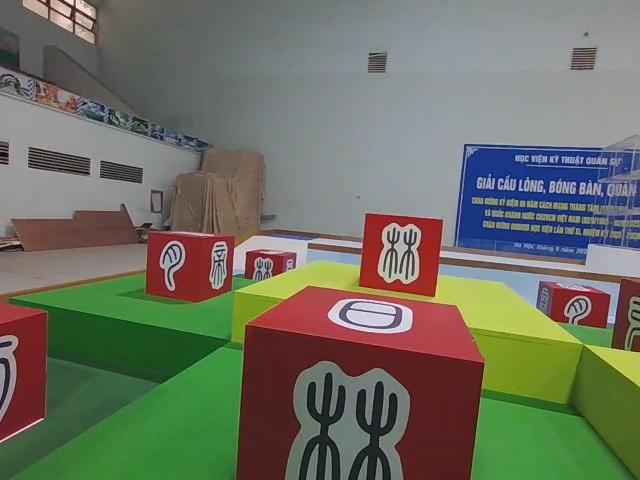R2 Fake: (236, 284, 487, 480), (357, 209, 445, 299), (145, 227, 232, 306), (534, 278, 612, 334), (245, 246, 299, 287)
